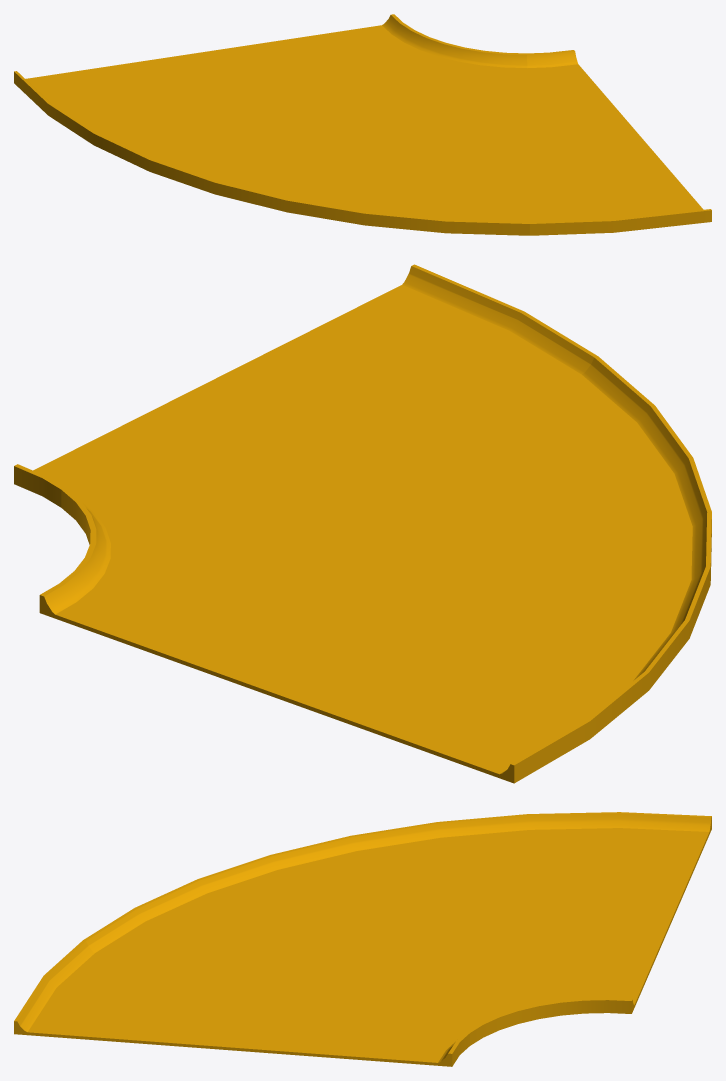
The model's file is 14mTrack_Blockout_90DTurn.fbx.
The picture shows the model from 3 angles, top to bottom: view 1: azimuth 30°, elevation 25°; view 2: azimuth 150°, elevation 25°; view 3: azimuth 270°, elevation 25°; orthographic projection. The views are drawn at different scales.
Visible parts, largest first — view 1: polySurface113; view 2: polySurface113; view 3: polySurface113.
Part boxes in pixels (<box>): polySurface113: <box>14,14,711,235</box>; polySurface113: <box>14,264,711,783</box>; polySurface113: <box>14,812,711,1066</box>.
Bounding box in the file's own units: 1800 × 45 × 2196.
